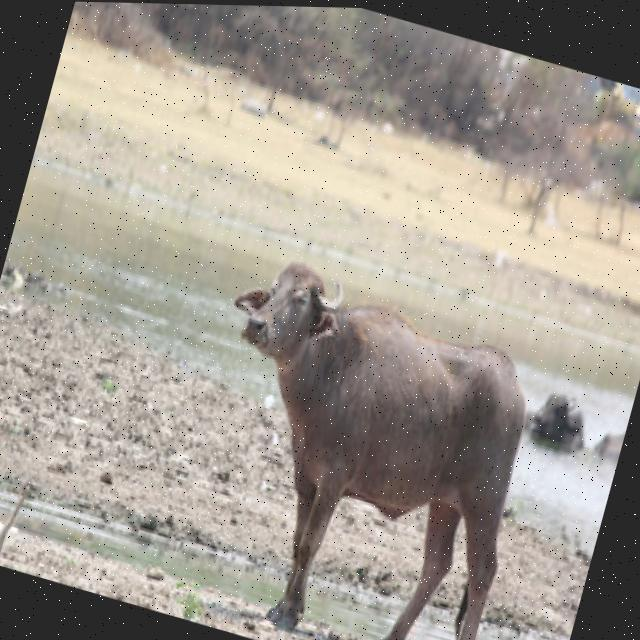Buffalo: (150, 238, 564, 640)
